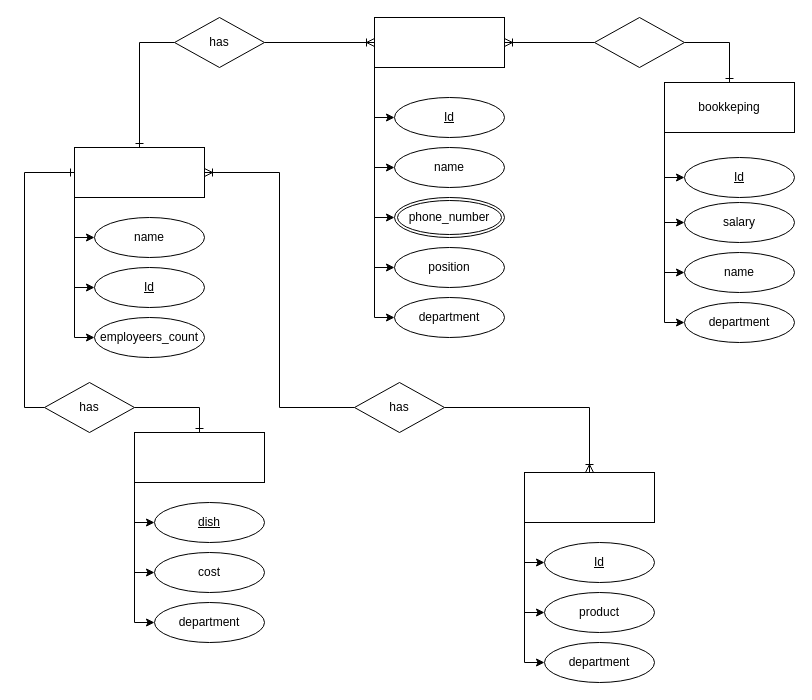
Image size: 812x700. Some labels were removed from this diagram. The centre of each missing label's shape, as x and y in pixels:
"employeers" goes at pixel 439 42.
"kitchen_department" goes at pixel 139 172.
"menu" goes at pixel 199 457.
"produce" goes at pixel 639 42.
"storage" goes at pixel 589 497.
